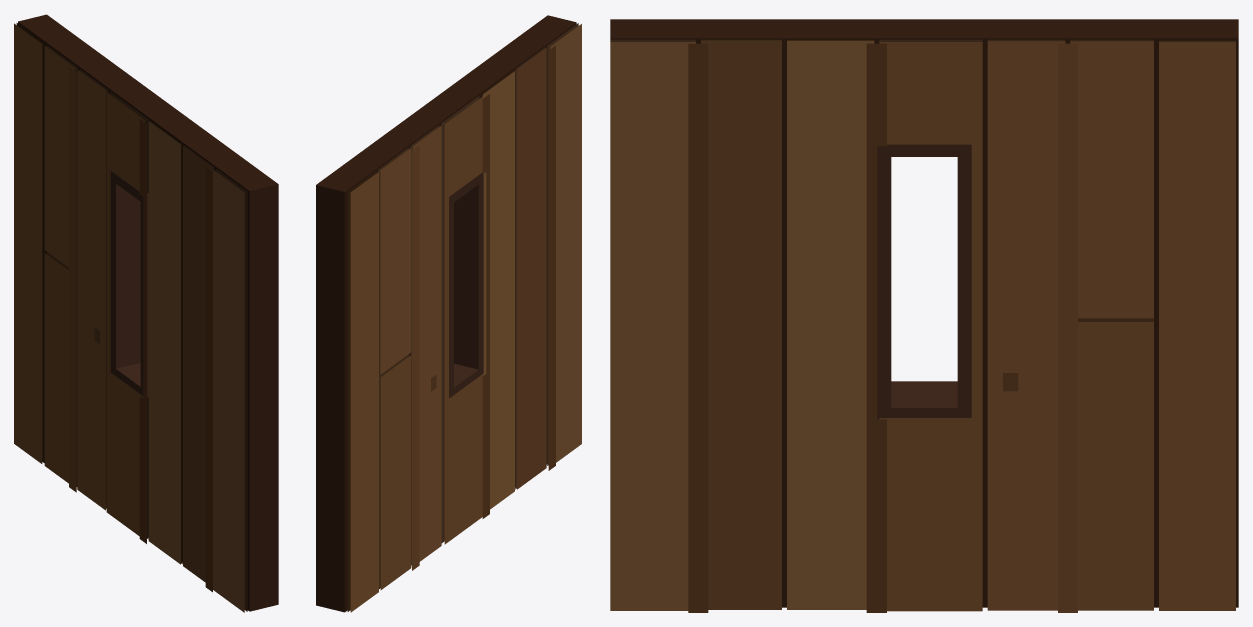
Rendered from wall-timber-window-slit.glb.
3 renders of one model, left to right at view 1: azimuth 30°, elevation 25°; view 2: azimuth 150°, elevation 25°; view 3: azimuth 270°, elevation 25°, orthographic. The views are drawn at different scales.
Visible parts, largest first — view 1: wall-timber-window-slit; view 2: wall-timber-window-slit; view 3: wall-timber-window-slit.
Boxes of the visible parts, left/top/right/bottom form: wall-timber-window-slit: left=14, top=14, right=278, bottom=612; wall-timber-window-slit: left=316, top=15, right=581, bottom=612; wall-timber-window-slit: left=610, top=19, right=1238, bottom=612.
Bounding box in the file's own units: 0.112 × 1 × 1.
